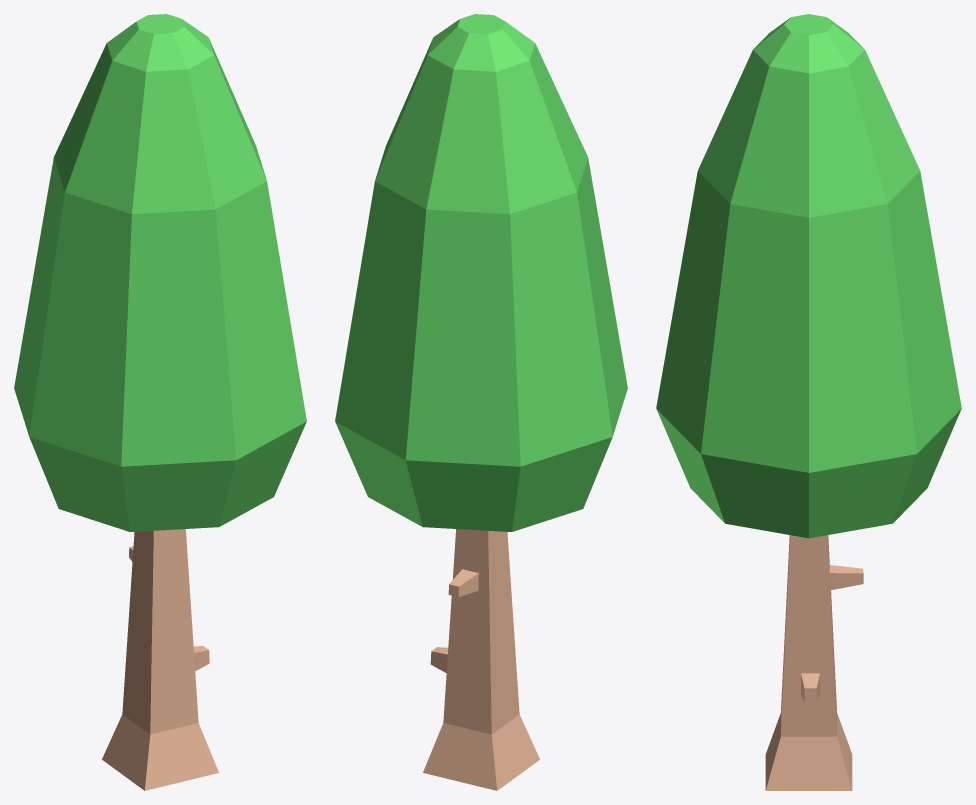
The model's file is n_tree_cone.glb.
3 views of the same model, side by side, from view 1: azimuth 30°, elevation 25°; view 2: azimuth 150°, elevation 25°; view 3: azimuth 270°, elevation 25° (orthographic).
Parts seen in each view (by area): view 1: tree_cone; view 2: tree_cone; view 3: tree_cone.
Part boxes in pixels (left/top/right/bottom): tree_cone: left=14, top=14, right=306, bottom=790; tree_cone: left=335, top=14, right=627, bottom=790; tree_cone: left=656, top=14, right=961, bottom=790.
Size of the model in its own units: 2.04 by 5.5 by 2.04.
